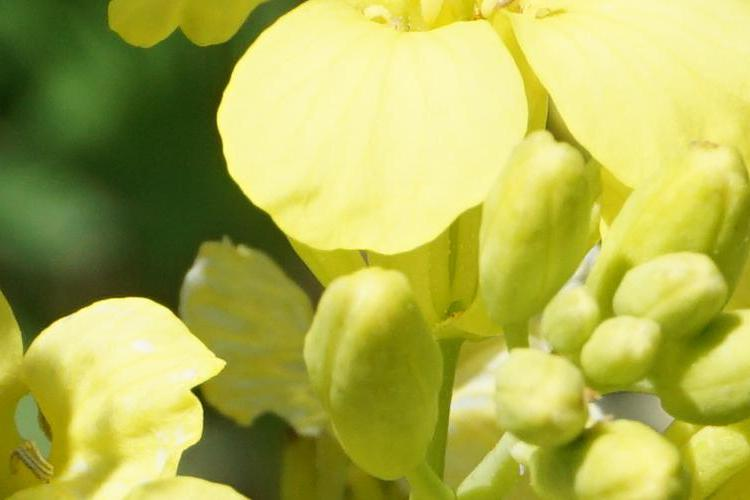bud: (308, 277, 463, 469), (470, 124, 601, 329), (599, 138, 738, 284), (523, 403, 677, 494), (608, 244, 725, 340), (663, 299, 750, 422), (490, 357, 601, 441), (575, 314, 665, 401), (539, 286, 601, 354)
yellow: (177, 7, 730, 226), (3, 307, 170, 500)
